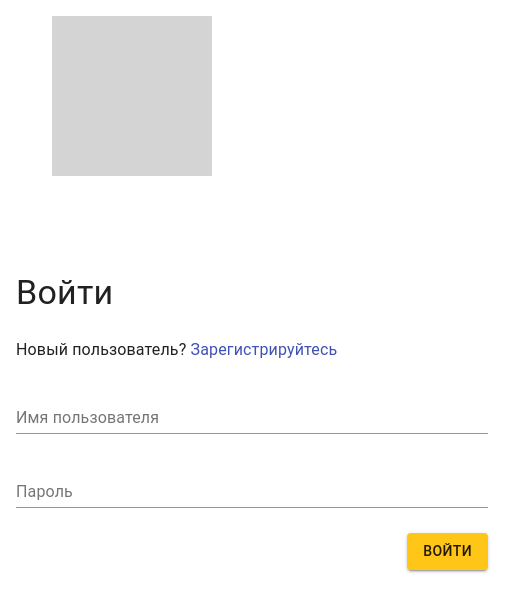
Login Component › При нажатии кнопки Войти невалидная форма не отправляется, выводятся сообщения об ошибках
Type "email@" into the field with test id "userNameField" at (252, 418), box [16, 402, 488, 434]
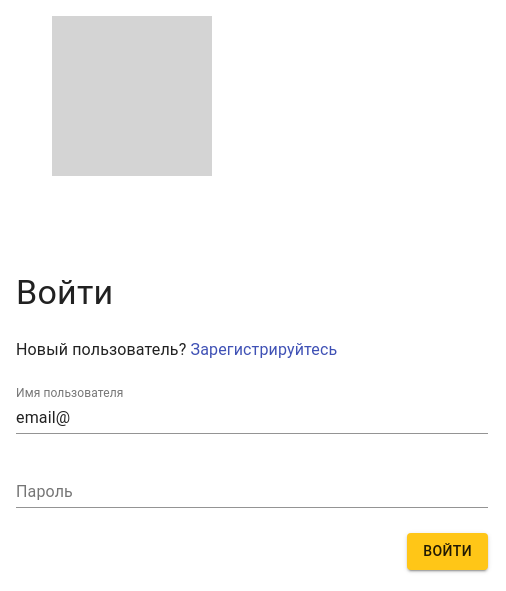
Click the button with test id "loginBtn" at (448, 551), box [407, 533, 488, 570]
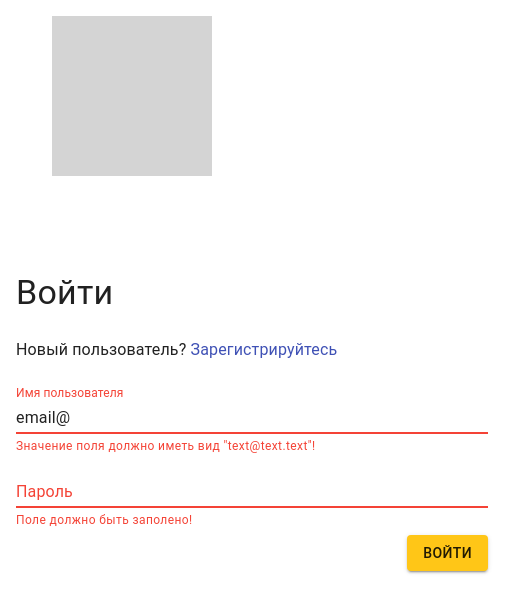
Expected: the text "Значение поля должно иметь вид \"text@text.text\"!" is shown, [16, 439, 316, 453]
Expected: the text "Поле должно быть заполено!" is shown, [16, 514, 192, 528]
